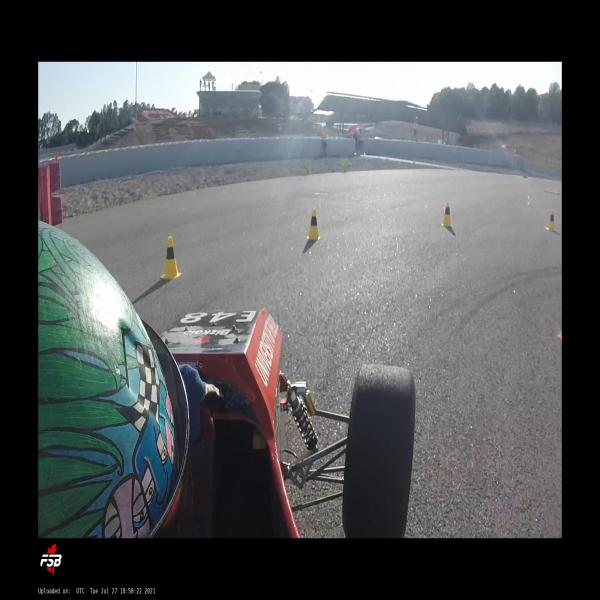yellow_cone: (160, 236, 183, 280), (305, 207, 322, 240), (544, 209, 556, 232), (442, 202, 452, 228)
